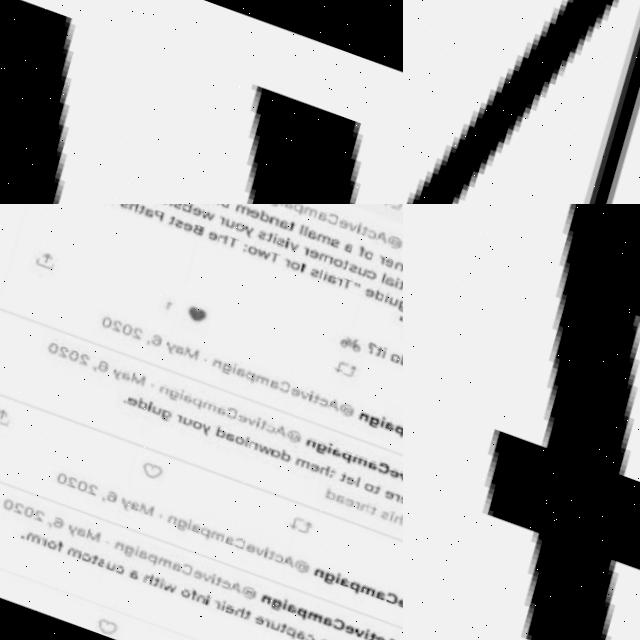0: (40, 341, 55, 356), (95, 317, 108, 331), (61, 350, 74, 364), (67, 480, 80, 494), (47, 472, 60, 486), (116, 324, 128, 336), (14, 507, 26, 519), (0, 497, 6, 512)
1: (159, 301, 168, 312)
2: (125, 328, 138, 342), (105, 320, 118, 334), (77, 483, 90, 497), (57, 476, 70, 490), (70, 353, 83, 367), (50, 344, 63, 358), (23, 509, 36, 523), (3, 502, 16, 516)
6: (41, 515, 56, 530), (143, 335, 156, 349), (90, 360, 103, 374), (95, 491, 108, 505)
A: (369, 230, 387, 246), (264, 424, 282, 440), (318, 398, 335, 414), (270, 556, 287, 570), (272, 603, 288, 617), (217, 581, 233, 595), (311, 211, 325, 224), (338, 242, 352, 255), (302, 229, 316, 242), (378, 276, 392, 289), (326, 577, 340, 590), (309, 616, 323, 629), (126, 549, 140, 562), (64, 526, 78, 539), (275, 219, 287, 231), (321, 274, 333, 286), (375, 422, 388, 433), (358, 461, 371, 472), (321, 448, 334, 459), (325, 494, 338, 505), (363, 591, 376, 602), (213, 536, 226, 547), (159, 562, 172, 573), (141, 208, 152, 220), (261, 380, 273, 391), (118, 570, 129, 581), (282, 631, 295, 640), (228, 368, 239, 378), (168, 346, 179, 356), (114, 372, 125, 382), (120, 502, 131, 512), (209, 406, 219, 416), (175, 394, 185, 404), (217, 433, 227, 443), (182, 524, 192, 534), (279, 204, 293, 211), (370, 637, 388, 640)
B: (186, 223, 201, 238), (177, 204, 190, 214), (216, 204, 229, 210)
C: (167, 562, 186, 578), (367, 460, 384, 477), (371, 591, 389, 607), (322, 213, 339, 229), (217, 406, 234, 422), (221, 536, 238, 552), (319, 617, 336, 633), (270, 381, 285, 396), (360, 269, 374, 282), (209, 580, 221, 592), (362, 230, 373, 240), (311, 398, 322, 408), (263, 554, 274, 564), (104, 566, 115, 576), (258, 425, 268, 435), (291, 634, 304, 640), (361, 636, 374, 640)
D: (128, 397, 143, 412), (314, 487, 329, 502), (367, 288, 382, 303), (255, 210, 268, 225), (270, 450, 284, 463), (391, 354, 403, 369), (206, 427, 218, 439)
E: (333, 220, 347, 233), (377, 258, 391, 271), (303, 249, 317, 262), (331, 624, 345, 637), (177, 221, 189, 234), (245, 209, 257, 221), (203, 231, 215, 243), (358, 288, 371, 299), (282, 387, 295, 398), (379, 469, 392, 480), (389, 496, 402, 507), (119, 397, 132, 408), (385, 599, 398, 610), (234, 543, 247, 554), (212, 605, 225, 616), (335, 476, 347, 487), (300, 463, 312, 474), (334, 498, 346, 509), (242, 616, 254, 627), (230, 414, 241, 424), (189, 207, 199, 217), (375, 491, 385, 501), (182, 571, 192, 581)
F: (351, 246, 362, 259), (294, 262, 305, 275), (176, 588, 187, 601), (44, 540, 55, 553)
G: (304, 441, 322, 458), (359, 415, 374, 431), (151, 408, 166, 423), (311, 572, 326, 587), (258, 598, 273, 613), (390, 299, 403, 314), (113, 544, 126, 559), (213, 362, 226, 376), (160, 389, 173, 403), (165, 519, 178, 533), (265, 204, 278, 208)
H: (0, 0, 403, 204), (310, 464, 323, 478), (213, 233, 226, 247), (383, 514, 395, 526), (350, 502, 362, 514), (223, 606, 235, 618), (132, 573, 144, 585), (124, 204, 137, 213), (399, 497, 403, 509)
I: (316, 442, 327, 455), (246, 417, 257, 430), (321, 573, 332, 586), (351, 224, 359, 236), (280, 238, 288, 250), (374, 348, 382, 360), (171, 389, 179, 401), (252, 548, 260, 560), (176, 520, 184, 532), (270, 599, 278, 611), (199, 574, 207, 586), (208, 600, 216, 612), (193, 595, 201, 607), (350, 629, 358, 640), (388, 278, 395, 290), (378, 294, 385, 306), (371, 417, 378, 429), (301, 391, 308, 403), (224, 363, 231, 375), (140, 401, 147, 413), (379, 511, 386, 523), (147, 578, 154, 590), (268, 233, 274, 245), (317, 271, 324, 281), (124, 546, 129, 556), (399, 473, 403, 485), (275, 204, 283, 208), (164, 204, 172, 207)
L: (375, 273, 383, 285), (234, 436, 242, 448), (294, 226, 301, 236), (313, 270, 320, 280), (299, 227, 305, 237), (346, 478, 352, 488)
M: (403, 0, 640, 204), (122, 371, 142, 388), (74, 528, 93, 545), (176, 346, 194, 363), (312, 252, 331, 267), (345, 584, 365, 598), (15, 532, 33, 546), (128, 503, 146, 517), (298, 207, 316, 220), (310, 234, 328, 247), (246, 374, 264, 387), (342, 456, 360, 469), (193, 401, 211, 414), (285, 458, 303, 471), (198, 531, 216, 544), (295, 612, 313, 625), (55, 547, 73, 560), (147, 558, 164, 570), (231, 205, 248, 217), (395, 428, 403, 442)
N: (265, 217, 277, 229), (388, 262, 401, 273), (350, 413, 363, 424), (249, 595, 262, 606), (183, 595, 196, 606), (302, 568, 315, 579), (297, 439, 309, 450), (240, 442, 251, 452), (104, 542, 115, 552), (157, 515, 168, 525), (205, 359, 215, 369), (152, 386, 162, 396), (398, 284, 403, 295), (400, 244, 403, 257)
O: (383, 353, 395, 365), (358, 250, 371, 261), (284, 261, 297, 272), (353, 483, 366, 494), (261, 449, 274, 460), (225, 436, 238, 447), (35, 540, 48, 551), (328, 259, 340, 270), (231, 223, 242, 233), (184, 421, 195, 431), (168, 589, 179, 599), (243, 246, 253, 256), (71, 553, 81, 563)
P: (282, 607, 298, 622), (383, 425, 398, 440), (331, 451, 346, 466), (336, 581, 351, 596), (189, 528, 202, 542), (288, 204, 301, 216), (136, 554, 148, 566), (149, 210, 161, 222), (238, 372, 249, 384), (185, 398, 195, 409), (273, 629, 284, 639)
R: (372, 255, 381, 265), (214, 216, 223, 226), (330, 278, 339, 288), (277, 258, 286, 268), (384, 494, 393, 504), (343, 500, 352, 510), (251, 619, 260, 629), (202, 601, 211, 611), (30, 537, 38, 548), (298, 247, 306, 257), (167, 414, 175, 424)
S: (342, 263, 354, 275), (326, 239, 337, 249), (271, 238, 282, 248), (253, 231, 264, 241), (305, 269, 316, 279), (169, 219, 180, 229), (85, 559, 96, 569), (370, 511, 380, 521), (168, 204, 180, 211), (114, 204, 126, 210)
T: (261, 250, 279, 267), (335, 278, 350, 293), (221, 236, 237, 250), (284, 222, 294, 233), (392, 281, 402, 292), (337, 261, 347, 272), (367, 346, 377, 357), (304, 394, 314, 405), (256, 550, 266, 561), (266, 623, 276, 634), (231, 610, 241, 621), (79, 554, 89, 565), (163, 216, 173, 227), (133, 205, 143, 216), (364, 484, 373, 496), (356, 226, 365, 237), (261, 233, 270, 244), (203, 576, 212, 587), (141, 577, 150, 588), (392, 518, 401, 528), (359, 507, 368, 517), (329, 473, 338, 483), (319, 470, 328, 480), (251, 421, 260, 431), (354, 633, 364, 640), (401, 322, 403, 333)
U: (352, 266, 364, 279), (382, 296, 394, 308), (220, 219, 231, 229), (174, 417, 185, 427), (257, 622, 268, 632), (94, 562, 105, 572), (144, 406, 154, 416)
V: (341, 222, 355, 236), (284, 242, 296, 254), (243, 547, 256, 558), (390, 473, 401, 483), (238, 417, 249, 427), (393, 601, 403, 612), (190, 574, 201, 584), (292, 391, 302, 401), (342, 629, 352, 639)
W: (251, 248, 269, 263), (196, 210, 213, 222), (248, 445, 265, 457), (150, 583, 167, 595), (397, 266, 403, 278)
Y: (158, 342, 171, 356), (104, 368, 117, 382), (191, 423, 204, 437), (109, 498, 122, 512), (56, 524, 69, 538), (239, 227, 252, 241)
